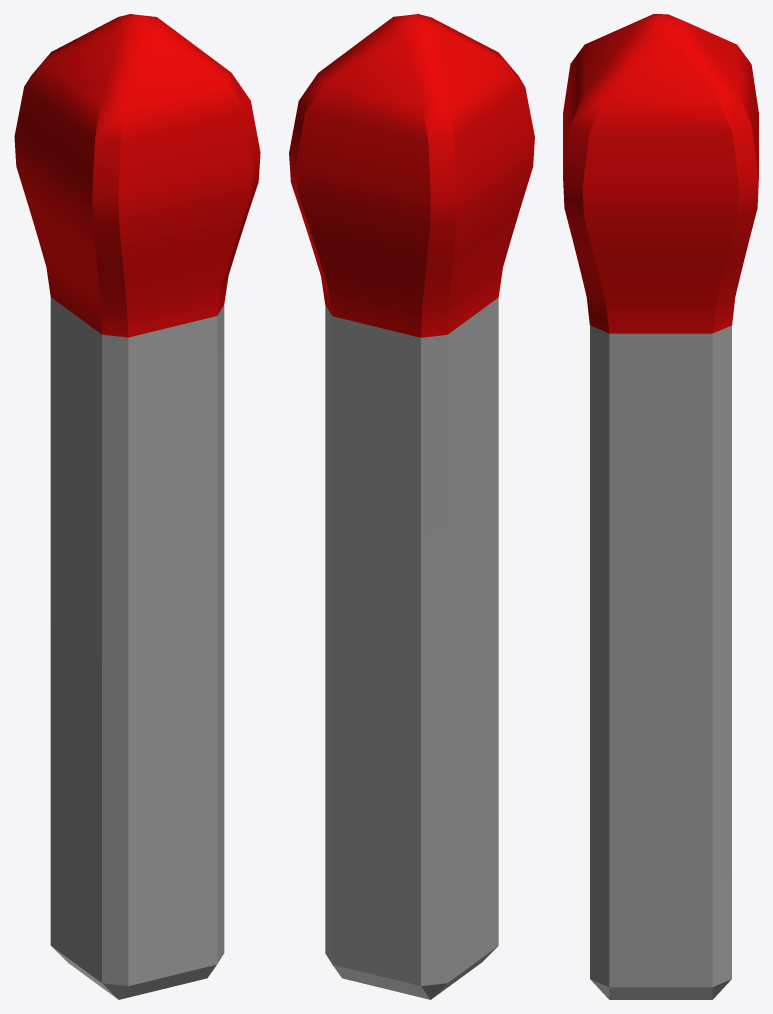
File: Asset_match.fbx
3 views of the same model, side by side, from view 1: azimuth 30°, elevation 25°; view 2: azimuth 150°, elevation 25°; view 3: azimuth 270°, elevation 25° (orthographic).
Parts seen in each view (by area): view 1: pCube1; view 2: pCube1; view 3: pCube1.
Boxes of the visible parts, x1,y1,x2,y2 form: pCube1: (14,14,260,999); pCube1: (289,14,534,999); pCube1: (563,14,758,999).
Size of the model in its own units: 1.38 by 7.47 by 1.38.
